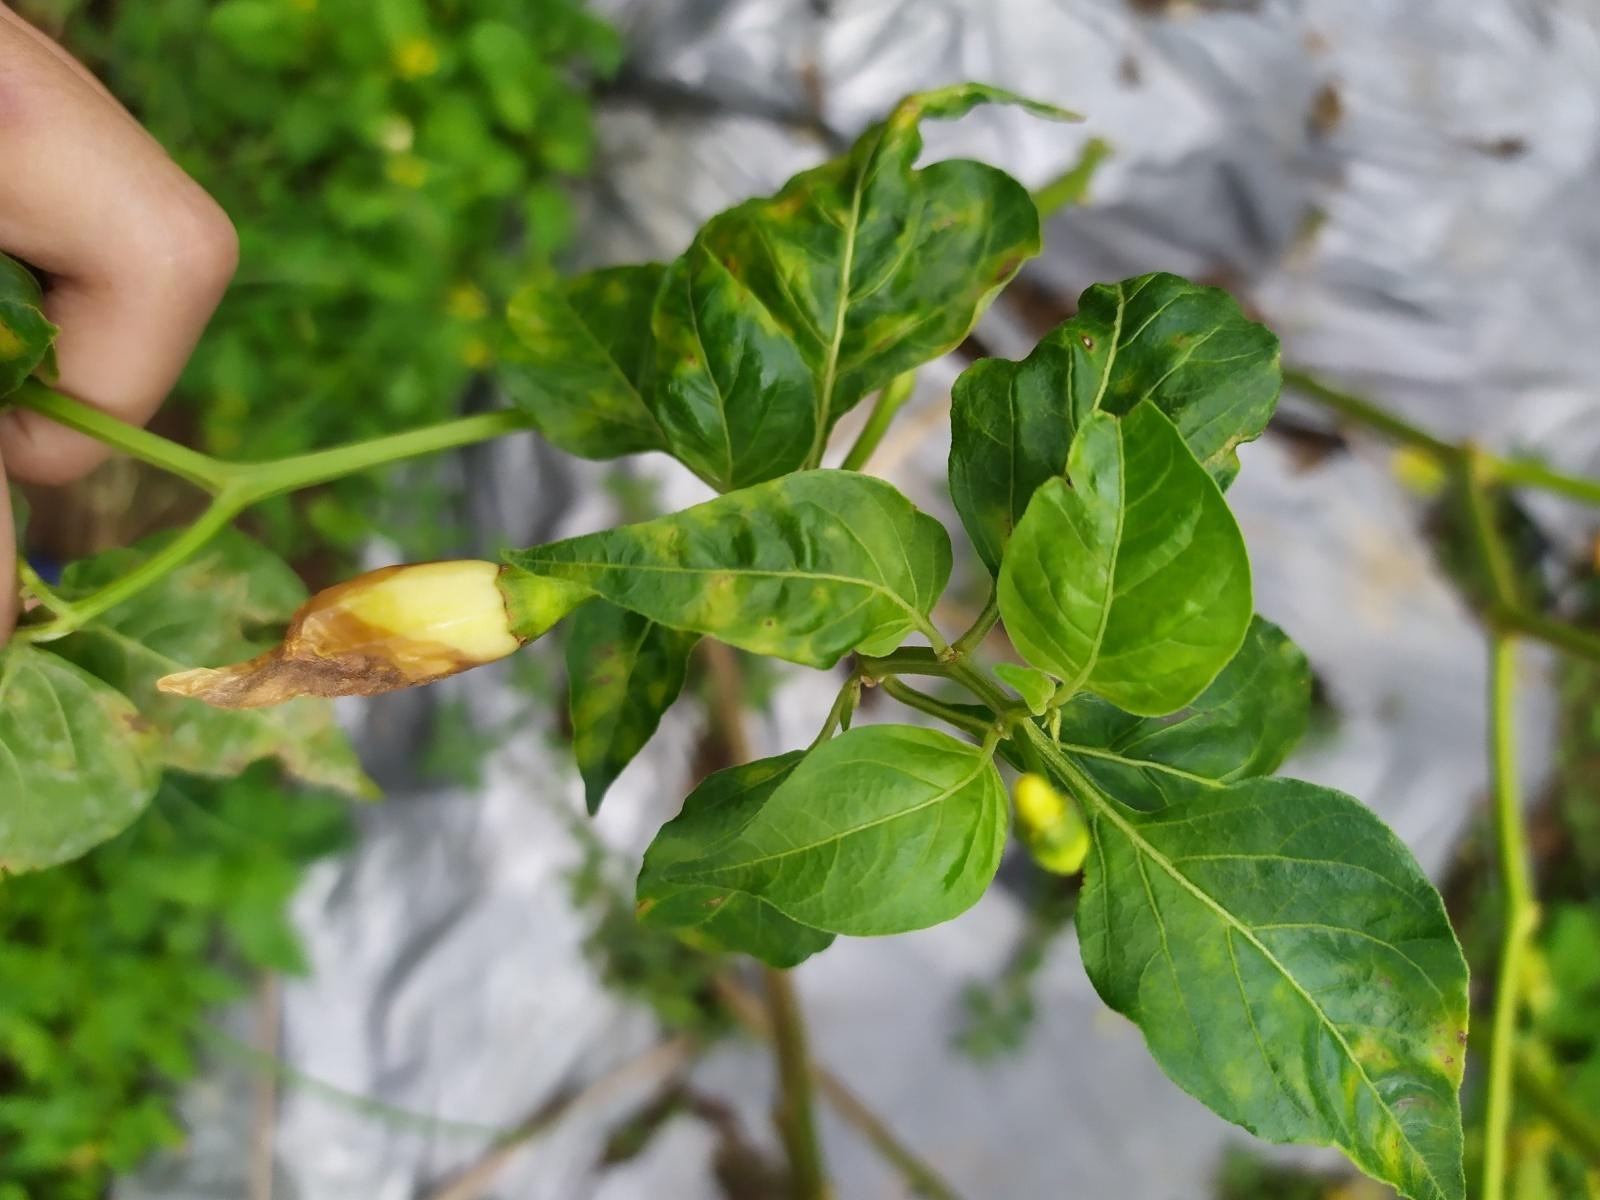antraknosa: (155, 558, 527, 711)
